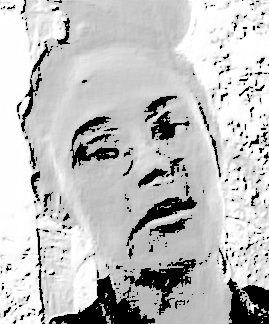nose_M_C: (129, 141, 174, 189)
